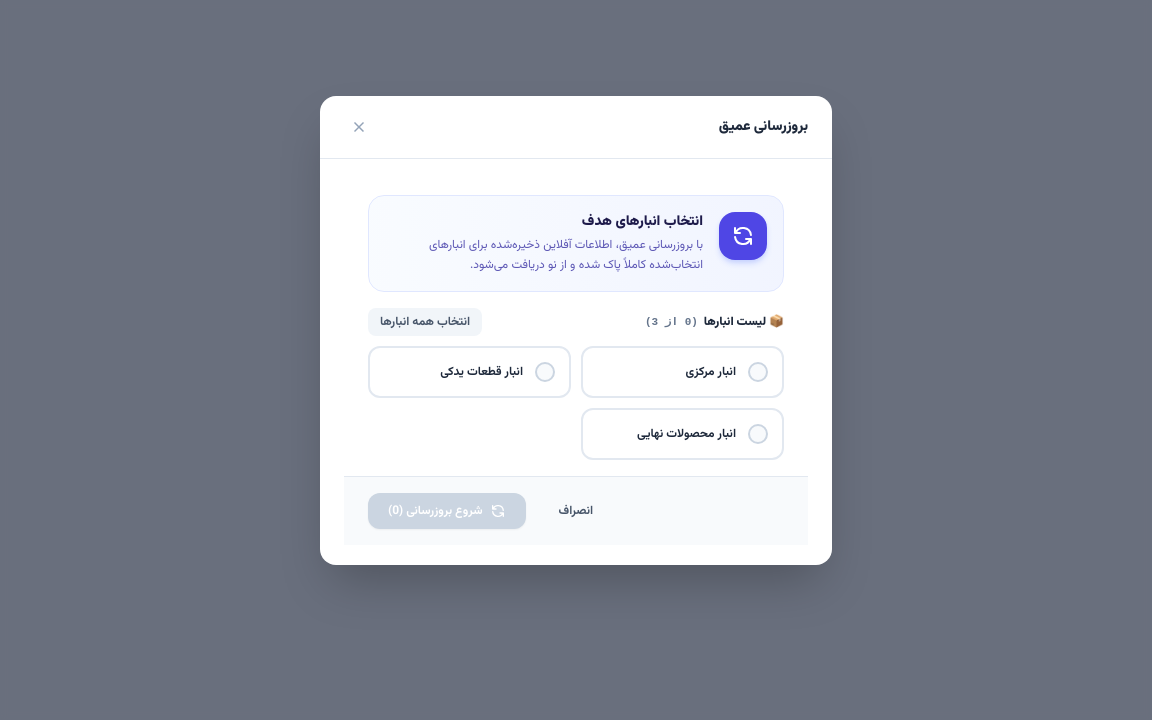
Test case: DeepSyncModalComponent DOM & Behavior Tests › should support toggle select all warehouses
// Click select all
Step 1. Click the button "انتخاب همه انبارها" → (425, 322), box x1=368 y1=308 x2=482 y2=336
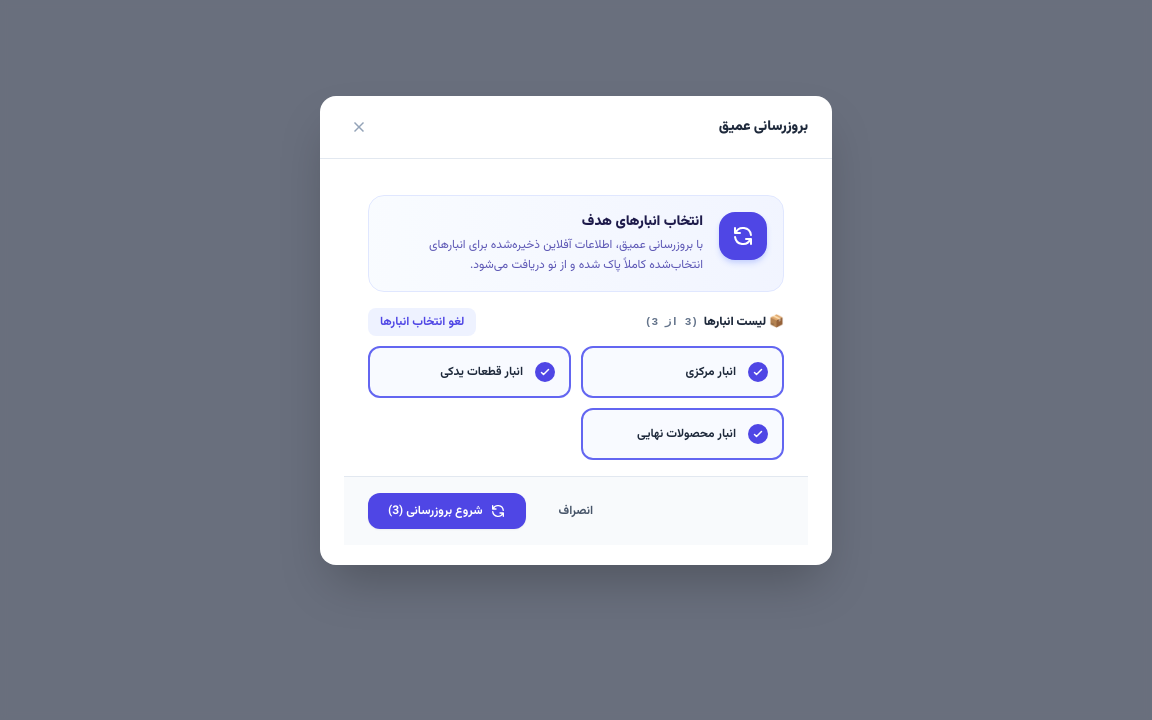
Now the button "لغو انتخاب انبارها" is shown
// Click again to clear all
Step 2. Click the button "لغو انتخاب انبارها" → (422, 322), box x1=368 y1=308 x2=476 y2=336
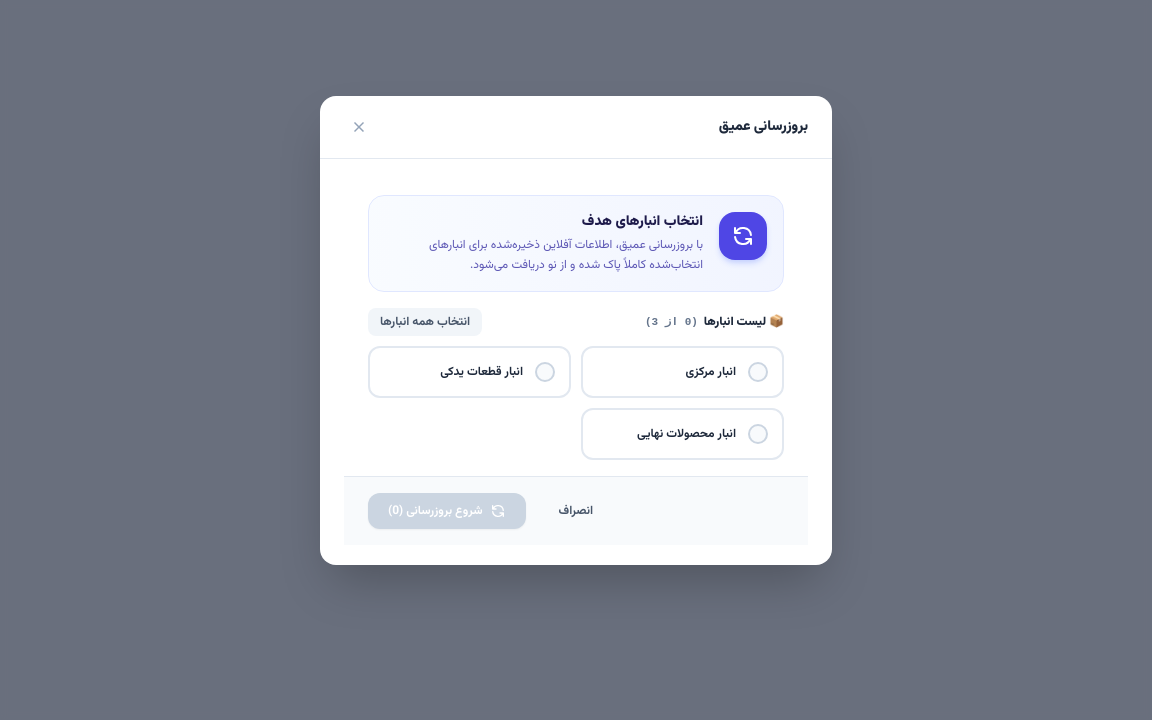
Now the button "انتخاب همه انبارها" is shown, box x1=368 y1=308 x2=482 y2=336
